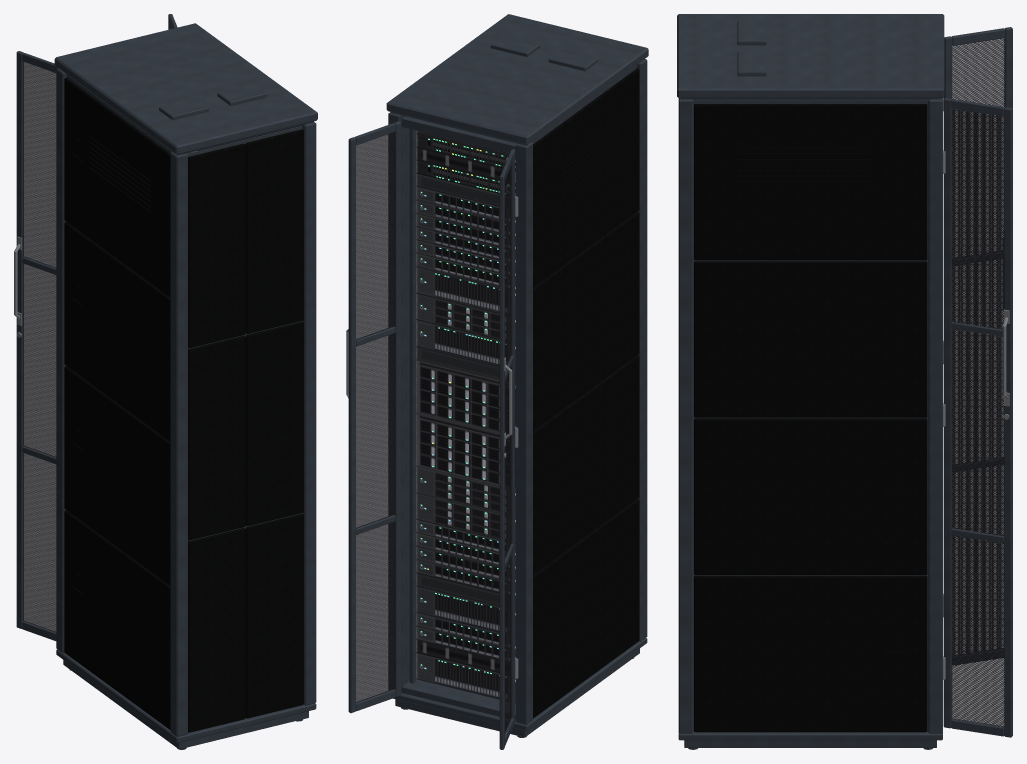
File: server_rack_open.glb
3 renders of one model, left to right at view 1: azimuth 30°, elevation 25°; view 2: azimuth 150°, elevation 25°; view 3: azimuth 270°, elevation 25°, orthographic. The views are drawn at different scales.
Visible parts, largest first — view 1: BackPanel, SidePanels, Frame, Door_XN; view 2: SidePanels, ServerFace, Frame, Door_XP, Door_XN, Rails, LEDs_Green; view 3: SidePanels, Frame, Door_XP, Door_XN.
Part boxes in pixels (x1,y1,x2,y2): BackPanel: (188, 129, 303, 732); SidePanels: (64, 77, 170, 729); Frame: (54, 23, 317, 749); Door_XN: (14, 51, 57, 640); SidePanels: (533, 68, 639, 718); ServerFace: (416, 130, 515, 703); Frame: (386, 14, 648, 737); Door_XP: (346, 121, 401, 713); Door_XN: (499, 149, 518, 749); Rails: (409, 129, 415, 683); LEDs_Green: (420, 138, 515, 677); SidePanels: (694, 104, 927, 732); Frame: (677, 14, 944, 749); Door_XP: (943, 98, 1012, 737); Door_XN: (943, 27, 1012, 665).
Bounding box in the file's own units: 14.25 × 50.33 × 22.86.
Materials: 8 (5 with a texture image).
